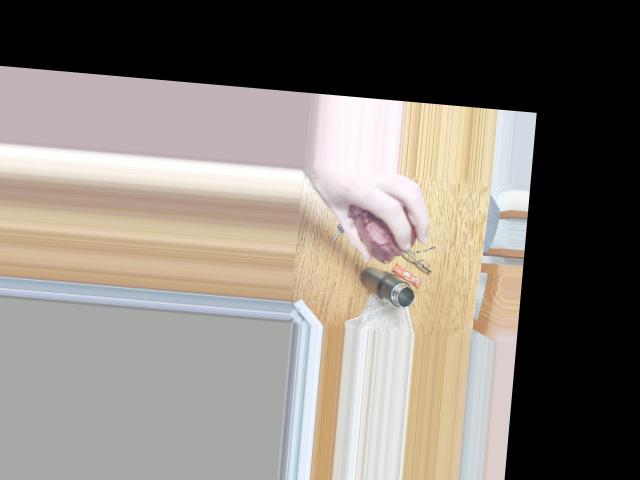onion: (340, 201, 417, 260)
